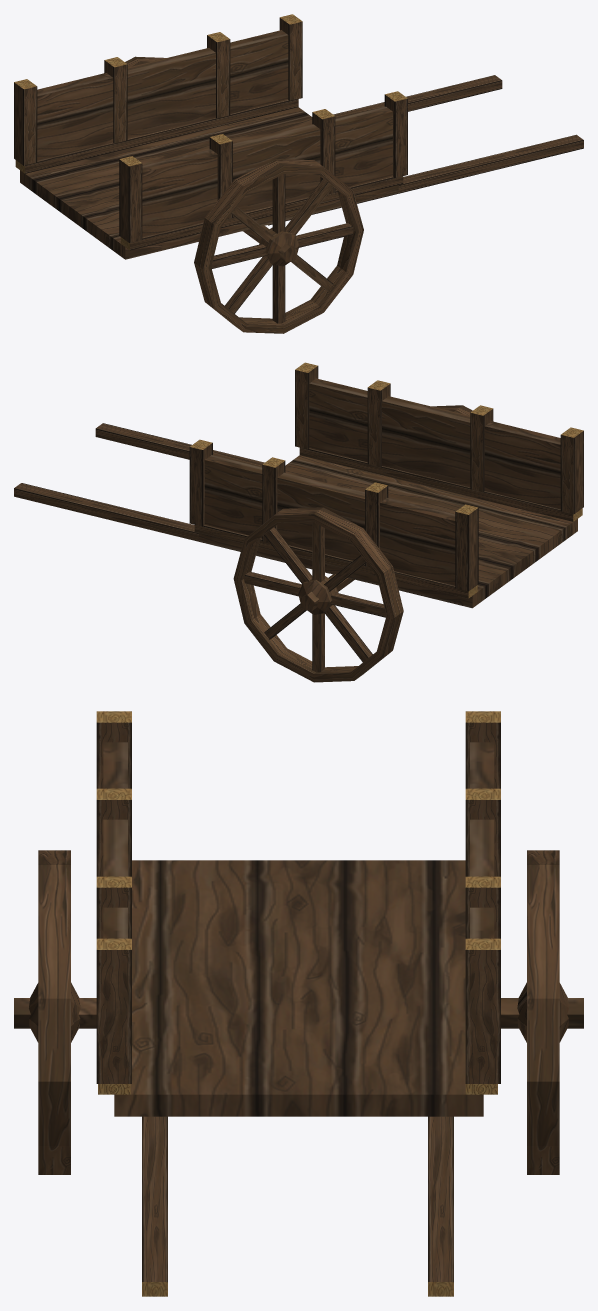
Rendered from Cart_b.FBX.
3 renders of one model, top to bottom at view 1: azimuth 30°, elevation 25°; view 2: azimuth 150°, elevation 25°; view 3: azimuth 270°, elevation 25°, orthographic. The views are drawn at different scales.
Parts seen in each view (by area): view 1: Cart_2, Cart_Wheels; view 2: Cart_2, Cart_Wheels; view 3: Cart_2, Cart_Wheels.
Part boxes in pixels (bbox=[...]): Cart_2: bbox=[14, 14, 583, 259]; Cart_Wheels: bbox=[125, 56, 363, 333]; Cart_2: bbox=[14, 362, 583, 608]; Cart_Wheels: bbox=[233, 405, 472, 682]; Cart_2: bbox=[96, 711, 500, 1296]; Cart_Wheels: bbox=[14, 850, 583, 1174].
Bounding box in the file's own units: 183 × 110 × 70.65.
